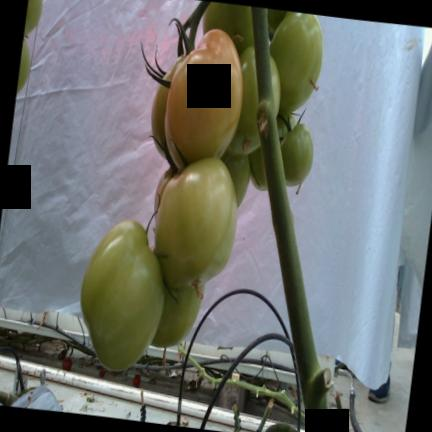MainStem: (250, 7, 331, 432)
tomato: (80, 220, 163, 369), (164, 29, 242, 168), (154, 157, 236, 288), (227, 45, 280, 155), (269, 11, 322, 115), (248, 114, 295, 190), (151, 54, 184, 156), (151, 283, 203, 347), (202, 2, 253, 54), (280, 123, 313, 185), (220, 151, 249, 206), (154, 167, 172, 210), (16, 38, 30, 92), (24, 0, 42, 35), (267, 9, 286, 32)
